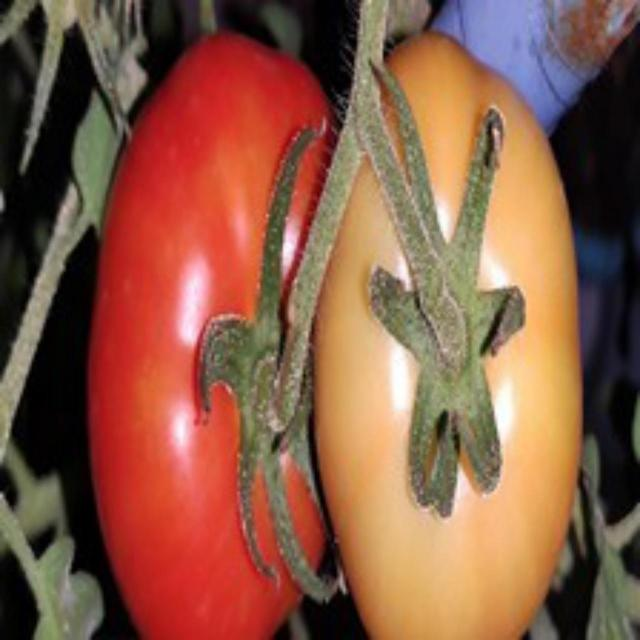tomato: (97, 40, 354, 640)
